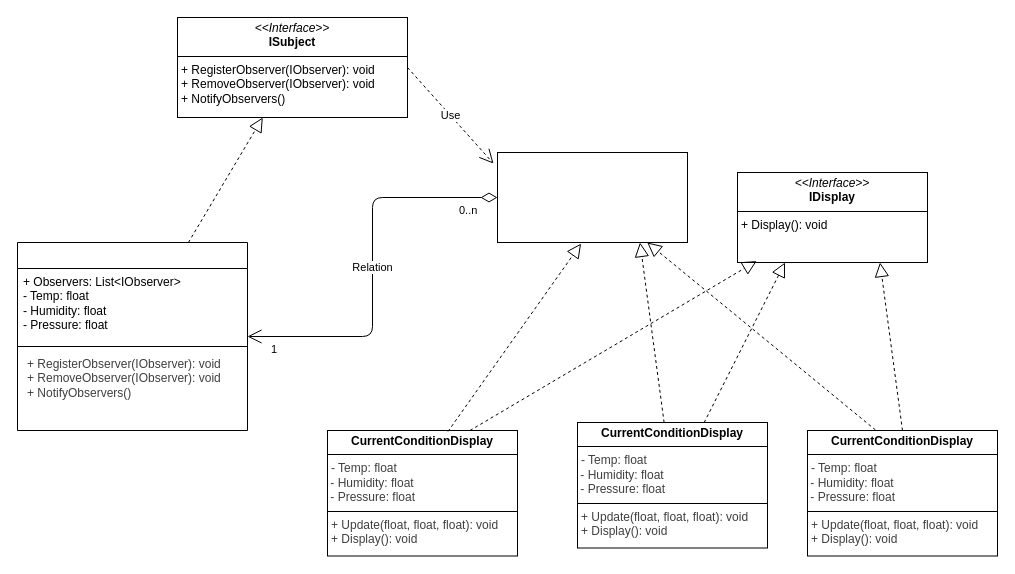
Image size: 1015x574. Some labels were removed from this diagram. The shapes that lost their labels are listed below. From the top down, each one's box as (x1, y1, x2, y2) in pixels, then its label:
(496, 152, 688, 242): <<Interface>> IObserver + Update(float, float, float): void
(16, 242, 248, 430): WeatherData
